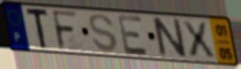E: (116, 14, 151, 57)
F: (50, 9, 80, 51)
N: (150, 17, 189, 60)
S: (87, 13, 120, 54)
T: (25, 7, 50, 50)
X: (180, 20, 218, 59)
